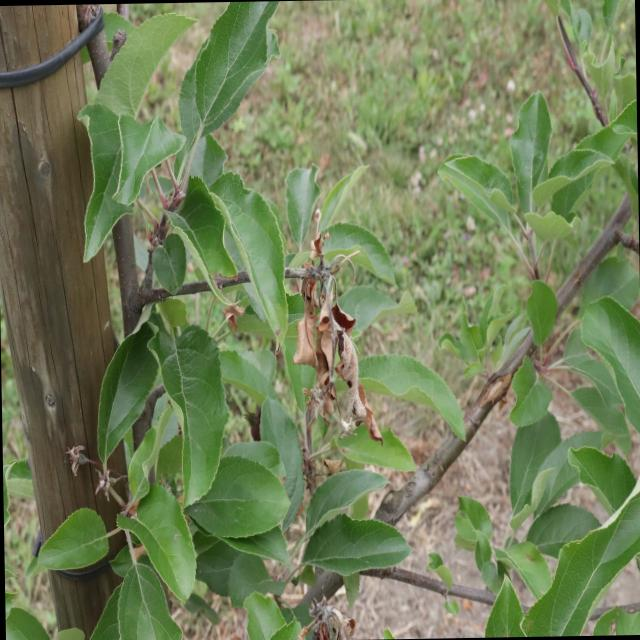-FireBlight-: (294, 239, 378, 442)
